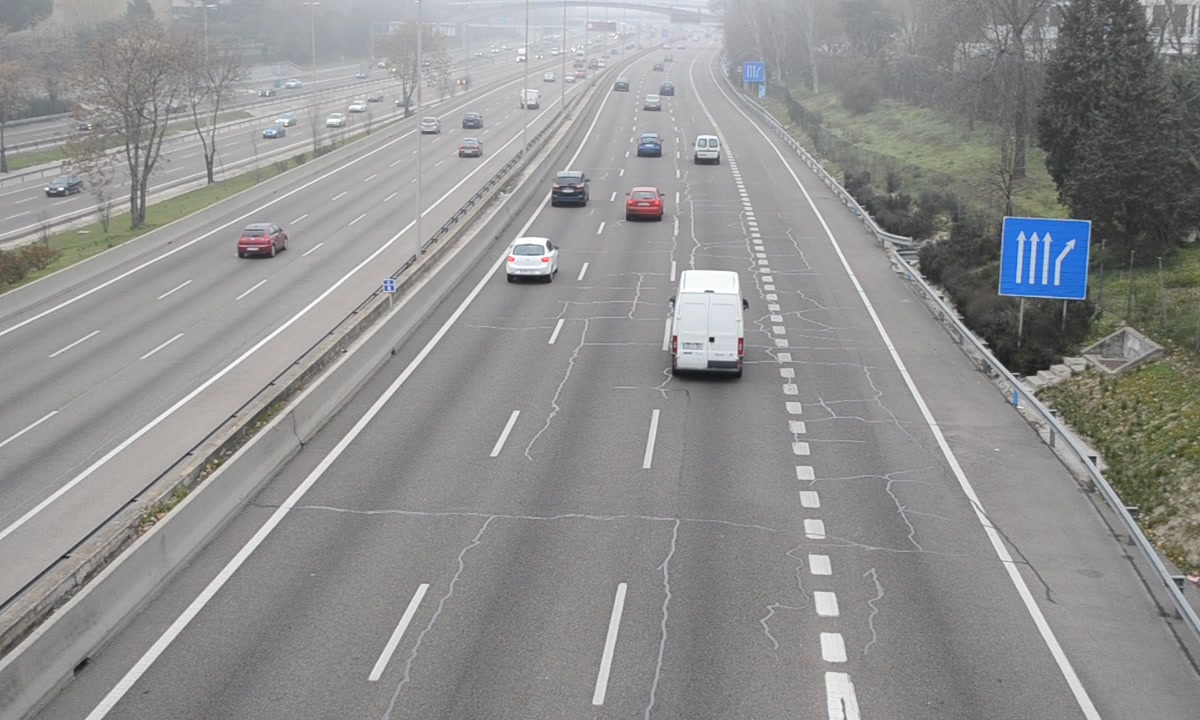car: (503, 239, 559, 277), (550, 170, 590, 209), (626, 187, 664, 223), (636, 132, 663, 159)
van: (672, 271, 747, 374), (693, 134, 723, 166)
